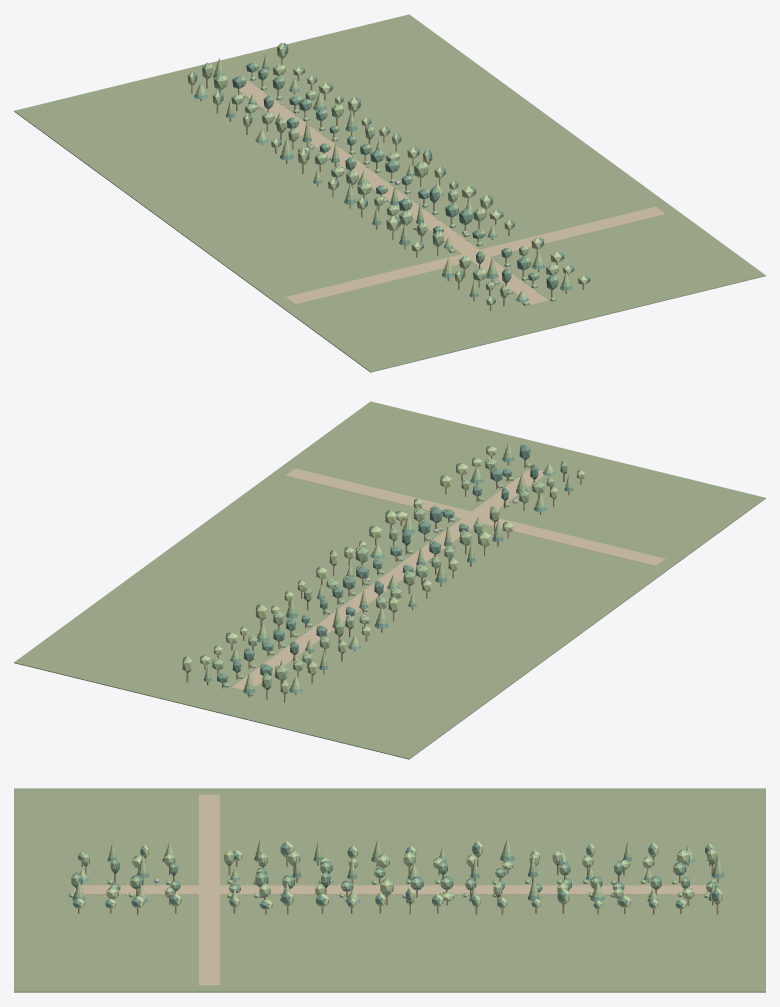
The model's file is forest_day_junction.glb.
3 renders of one model, top to bottom at view 1: azimuth 30°, elevation 25°; view 2: azimuth 150°, elevation 25°; view 3: azimuth 270°, elevation 25°, orthographic. The views are drawn at different scales.
Parts seen in each view (by area): view 1: Static.Forest.ground, Static.Leaf.middle, Static.Leaf.light, Static.Leaf.deep, Branch.front.Trail, Branch.left.Trail, Branch.right.Trail, Static.Wood, Static.Trail; view 2: Static.Forest.ground, Static.Leaf.middle, Static.Leaf.deep, Static.Leaf.light, Branch.front.Trail, Branch.left.Trail, Branch.right.Trail, Static.Wood, Static.Trail; view 3: Static.Forest.ground, Static.Leaf.middle, Static.Leaf.light, Static.Leaf.deep, Branch.front.Trail, Branch.right.Trail, Branch.left.Trail, Static.Trail, Static.Wood.
Boxes of the visible parts, x1,y1,x2,y2 form: Static.Forest.ground: [14, 14, 765, 372]; Static.Leaf.middle: [196, 62, 571, 305]; Static.Leaf.light: [187, 42, 588, 305]; Static.Leaf.deep: [193, 43, 590, 303]; Branch.front.Trail: [232, 81, 478, 253]; Branch.left.Trail: [285, 254, 463, 304]; Branch.right.Trail: [480, 206, 665, 256]; Static.Wood: [191, 59, 584, 310]; Static.Trail: [461, 249, 547, 304]; Static.Forest.ground: [14, 401, 765, 759]; Static.Leaf.middle: [204, 444, 572, 696]; Static.Leaf.deep: [182, 444, 580, 694]; Static.Leaf.light: [182, 443, 585, 694]; Branch.front.Trail: [232, 519, 474, 690]; Branch.left.Trail: [481, 516, 665, 566]; Branch.right.Trail: [285, 468, 470, 518]; Static.Wood: [186, 456, 581, 702]; Static.Trail: [461, 469, 544, 522]; Static.Forest.ground: [14, 788, 765, 992]; Static.Leaf.middle: [68, 847, 723, 900]; Static.Leaf.light: [73, 838, 722, 909]; Static.Leaf.deep: [71, 842, 724, 908]; Branch.front.Trail: [221, 885, 705, 894]; Branch.right.Trail: [199, 894, 219, 985]; Branch.left.Trail: [199, 794, 219, 884]; Static.Trail: [74, 885, 221, 894]; Static.Wood: [76, 857, 718, 914].
Bounding box in the file's own units: 64 × 4.22 × 100.
